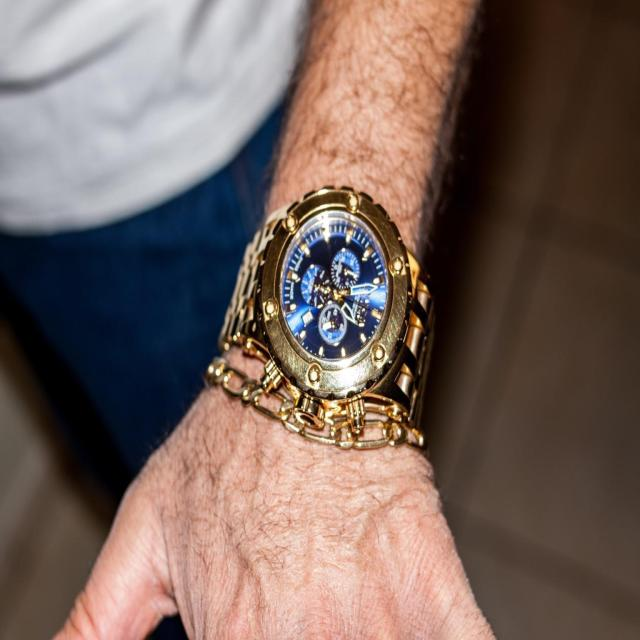Wrist watch: (206, 184, 437, 450)
